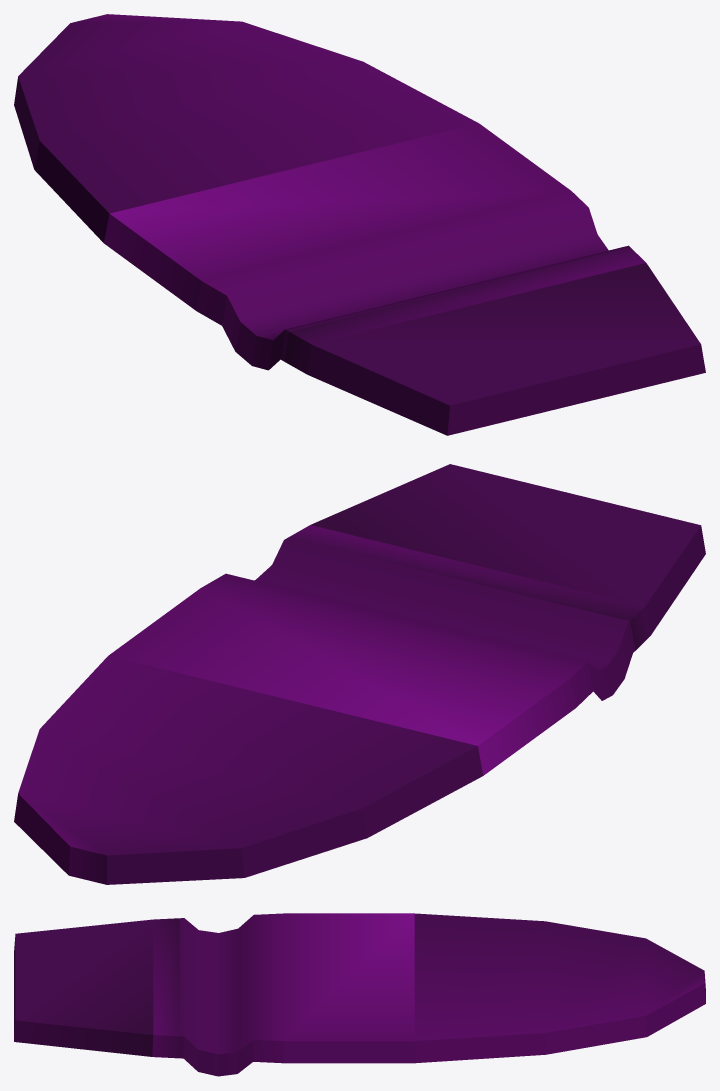
Rendered from 58218_watermasker.glb.
3 renders of one model, top to bottom at view 1: azimuth 30°, elevation 25°; view 2: azimuth 150°, elevation 25°; view 3: azimuth 270°, elevation 25°, orthographic. The views are drawn at different scales.
Visible parts, largest first — view 1: 58218_watermasker; view 2: 58218_watermasker; view 3: 58218_watermasker.
Boxes of the visible parts, bbox=[...] form: 58218_watermasker: bbox=[14, 14, 705, 435]; 58218_watermasker: bbox=[14, 464, 705, 884]; 58218_watermasker: bbox=[14, 913, 705, 1076].
Bounding box in the file's own units: 3.05 × 0.3961 × 6.78.
